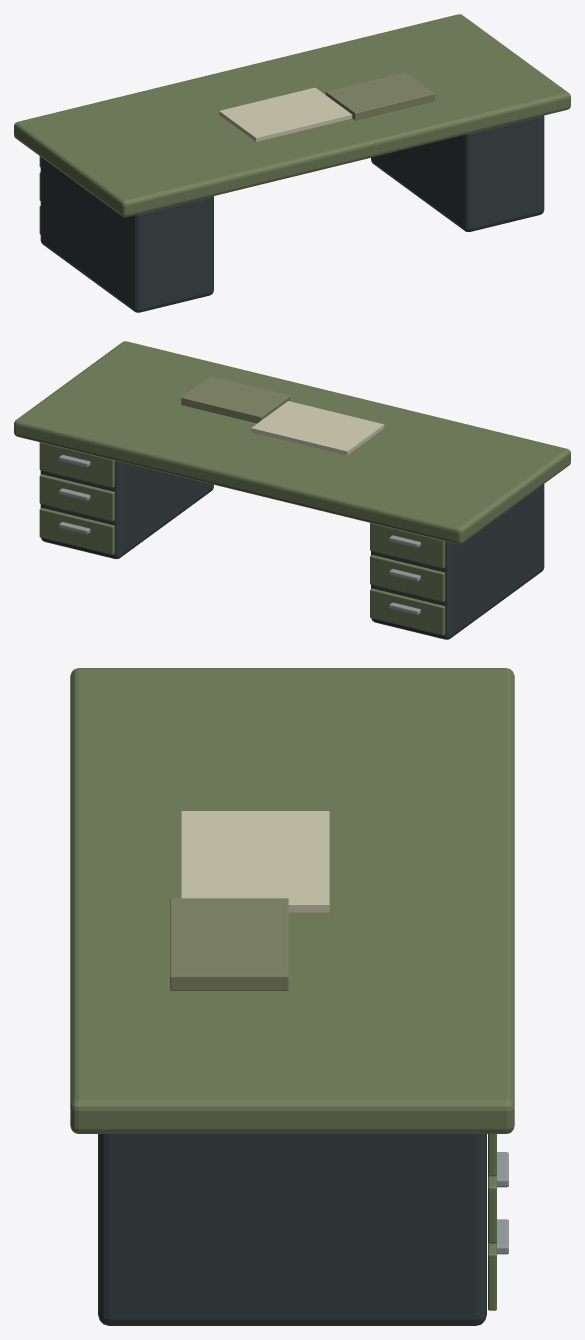
File: field_desk.glb
The picture shows the model from 3 angles, top to bottom: view 1: azimuth 30°, elevation 25°; view 2: azimuth 150°, elevation 25°; view 3: azimuth 270°, elevation 25°; orthographic projection. The views are drawn at different scales.
Parts seen in each view (by area): view 1: field_desk; view 2: field_desk; view 3: field_desk.
Boxes of the visible parts, x1=… form: field_desk: x1=14, y1=14, x2=570, y2=312; field_desk: x1=14, y1=341, x2=570, y2=639; field_desk: x1=70, y1=668, x2=514, y2=1325.
Bounding box in the file's own units: 2.8 × 0.7825 × 1.2.
